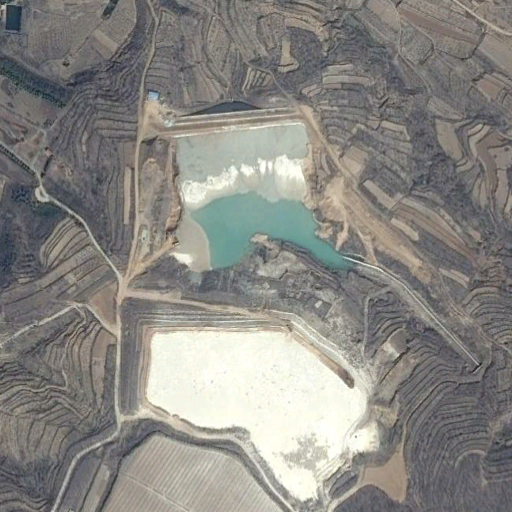tp: (164, 107, 357, 273)
